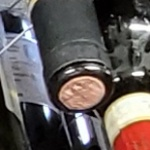bottle: (29, 34, 138, 125)
